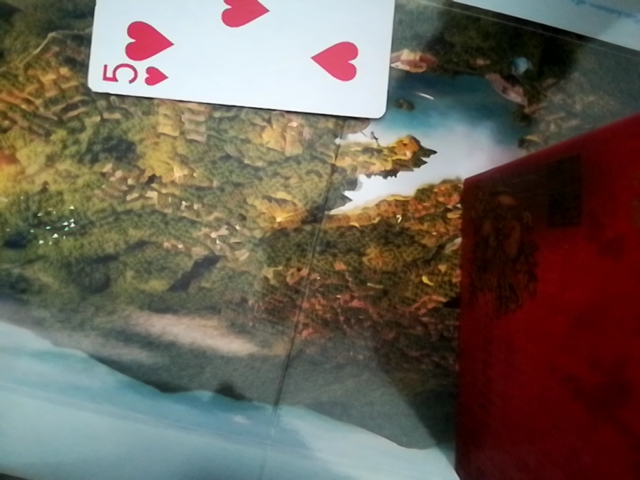hx 5: (84, 2, 398, 121)
